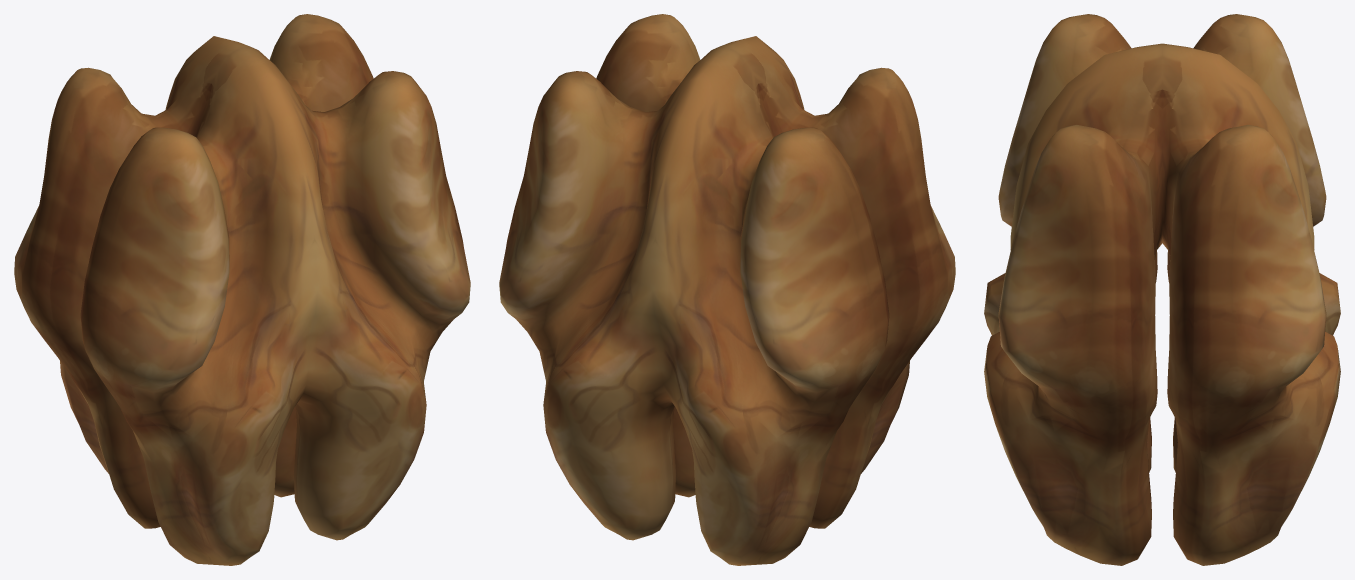
The model's file is WalnutKernelVisuals.fbx.
The picture shows the model from 3 angles, left to right: view 1: azimuth 30°, elevation 25°; view 2: azimuth 150°, elevation 25°; view 3: azimuth 270°, elevation 25°; orthographic projection.
Visible parts, largest first — view 1: WalnutKernel; view 2: WalnutKernel; view 3: WalnutKernel.
Part boxes in pixels (x1,y1,x2,y2): WalnutKernel: (14,14,470,565); WalnutKernel: (499,14,955,565); WalnutKernel: (984,14,1340,565).
Bounding box in the file's own units: 51.35 × 63.55 × 42.34.
